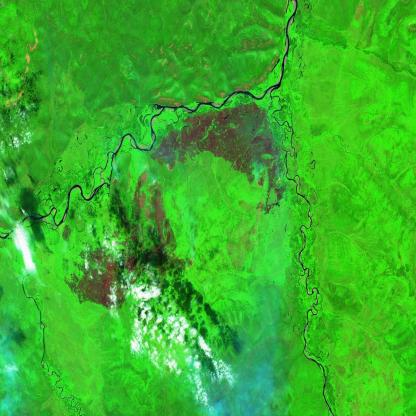fire: (143, 154, 201, 172), (250, 173, 266, 196), (145, 178, 161, 200), (184, 254, 197, 274), (110, 170, 122, 191)
